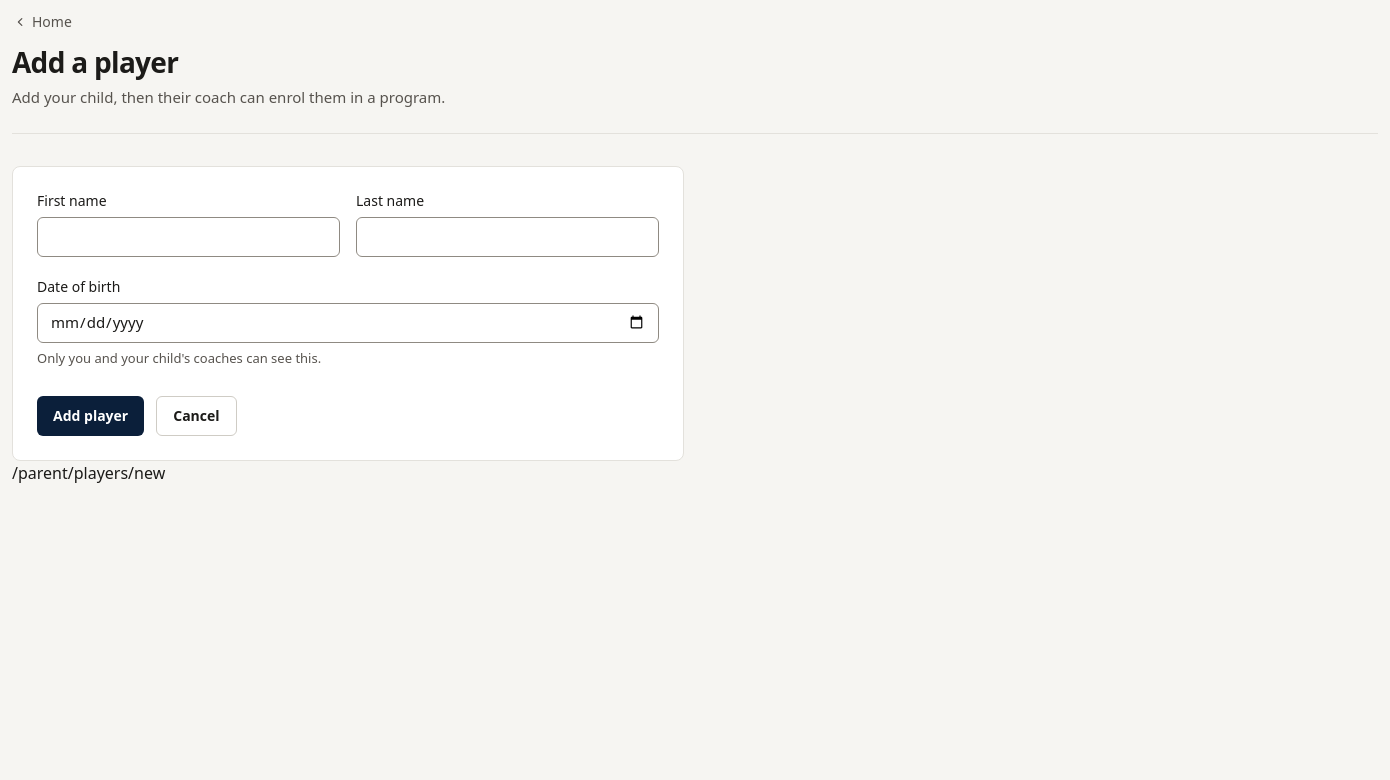
Test: parent player pages › adds a player and opens their page
This screenshot has width=1390, height=780.
Type "Sam" into the field labelled "First name" at (188, 236), box [37,216,340,256]
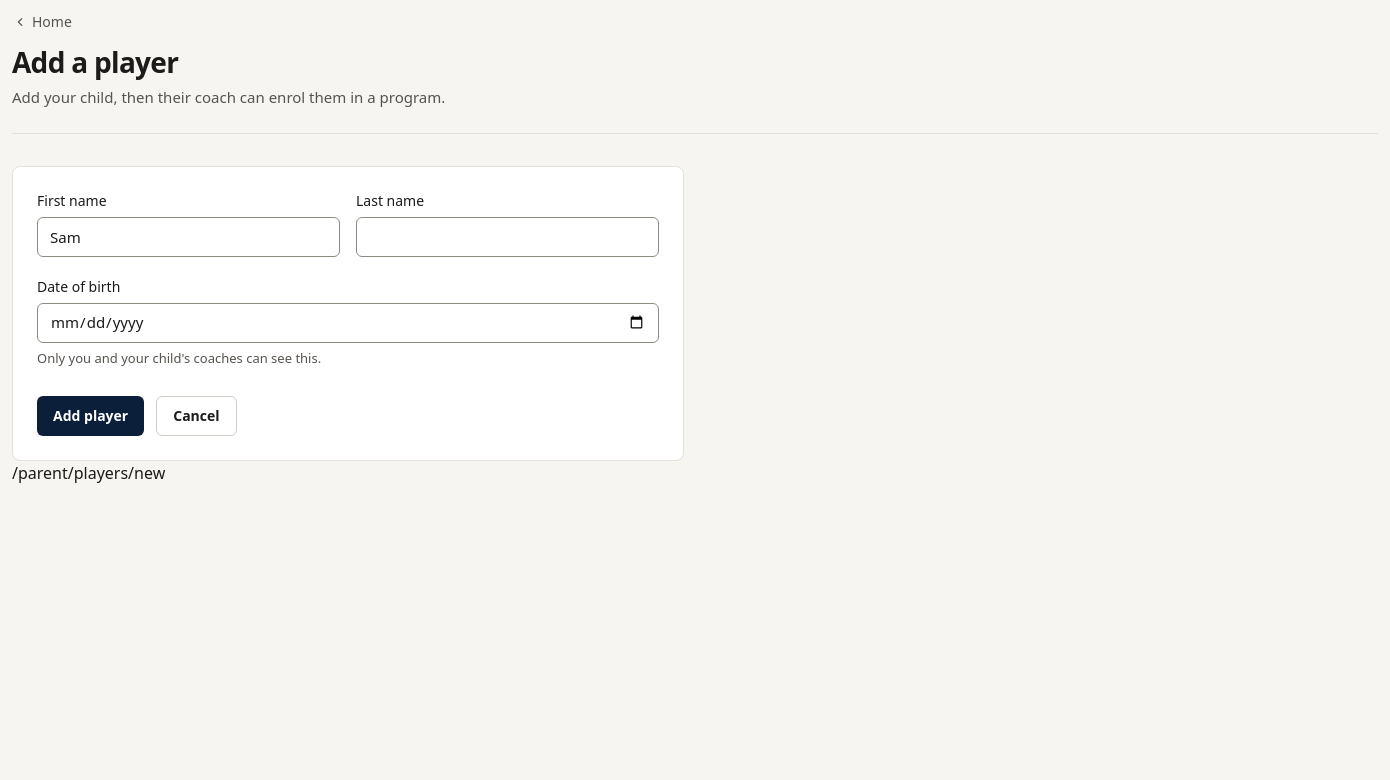
Type "Taylor" into the field labelled "Last name" at (508, 236), box [356,216,659,256]
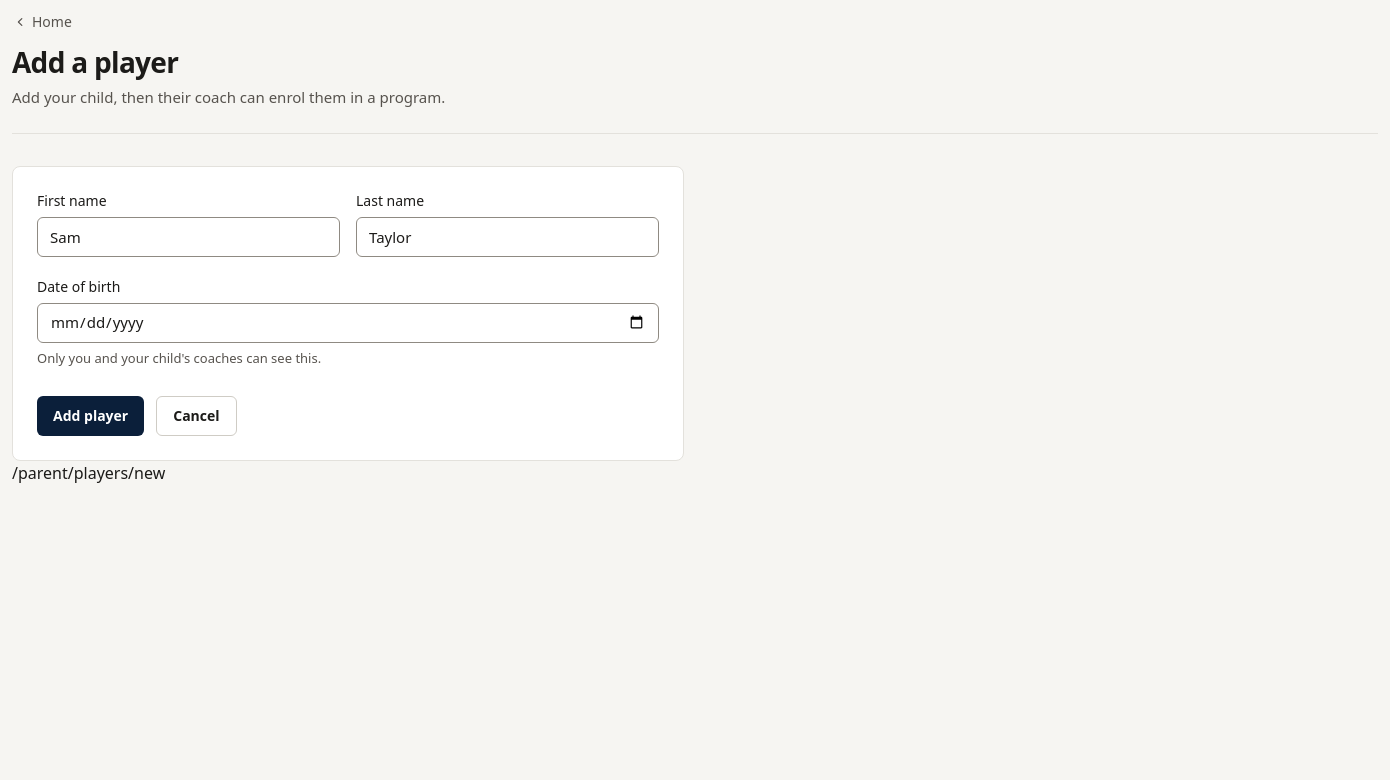
Type "2013-05-14" into the date field labelled "Date of birth" at (348, 322), box [37,302,659,342]
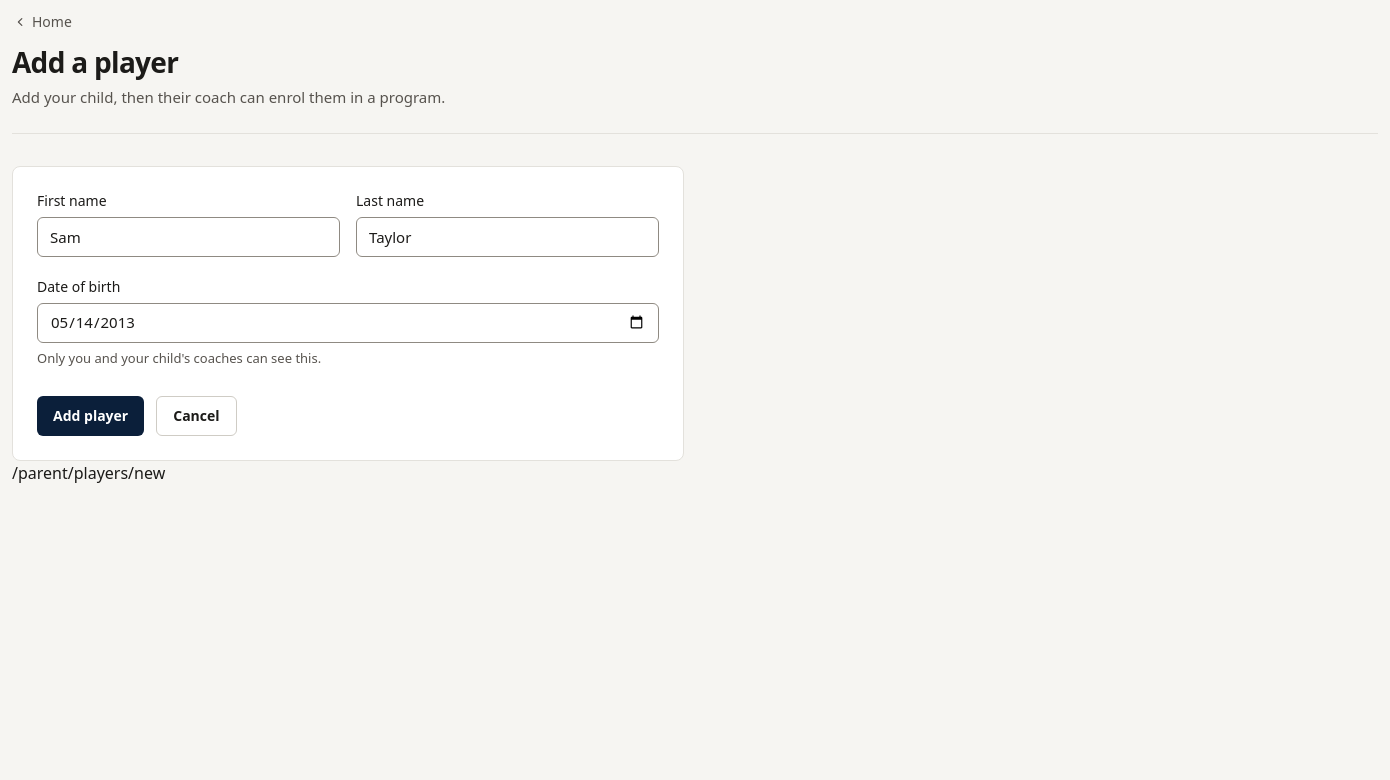
Click the button "Add player" at (91, 416), box [37,396,144,436]
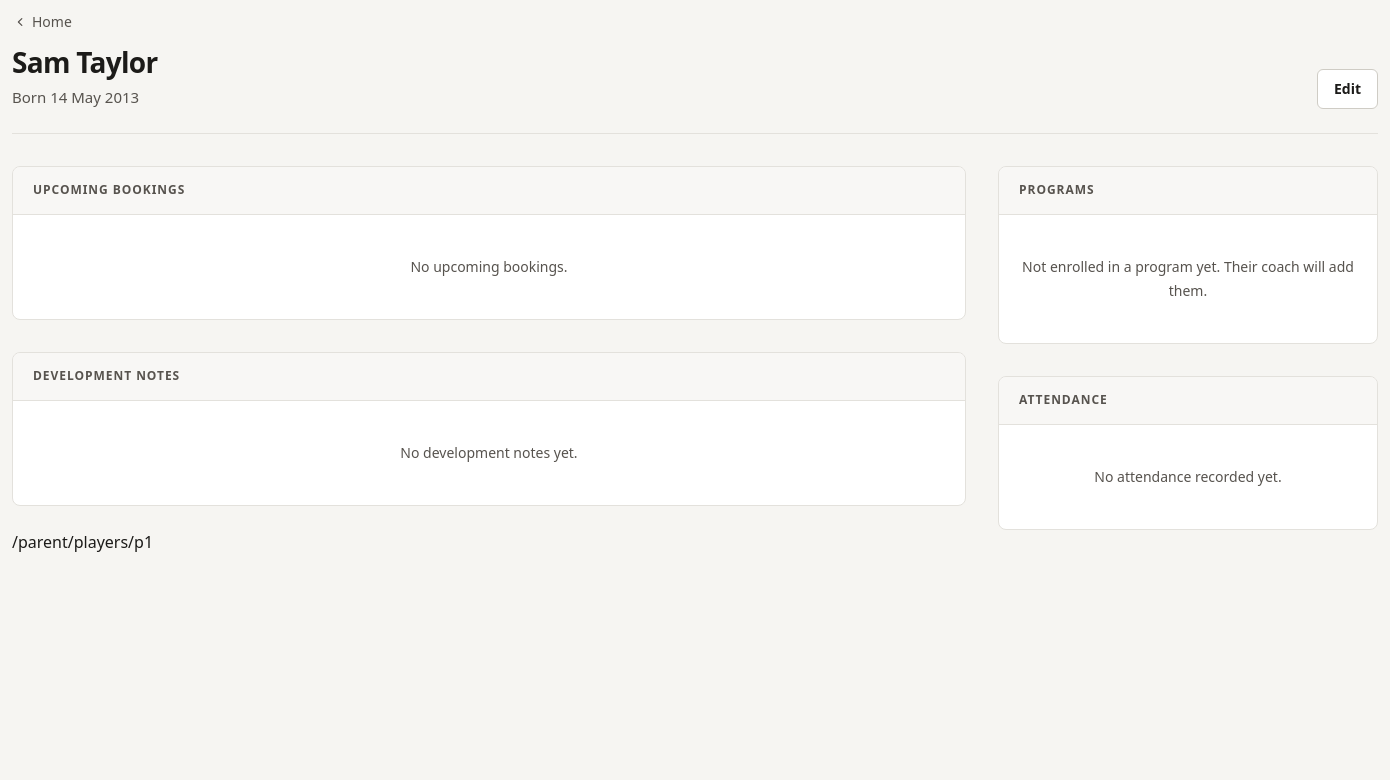
Expected: the text "/parent/players/p1" is shown, [12,530,153,552]
